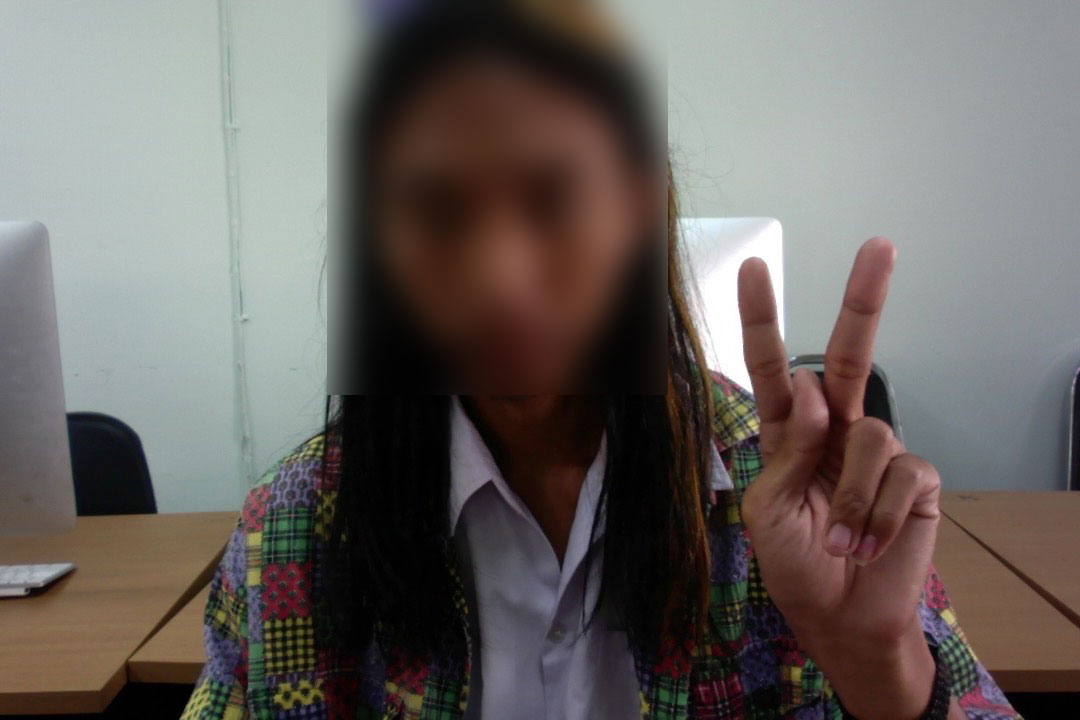ko: (726, 230, 948, 653)
